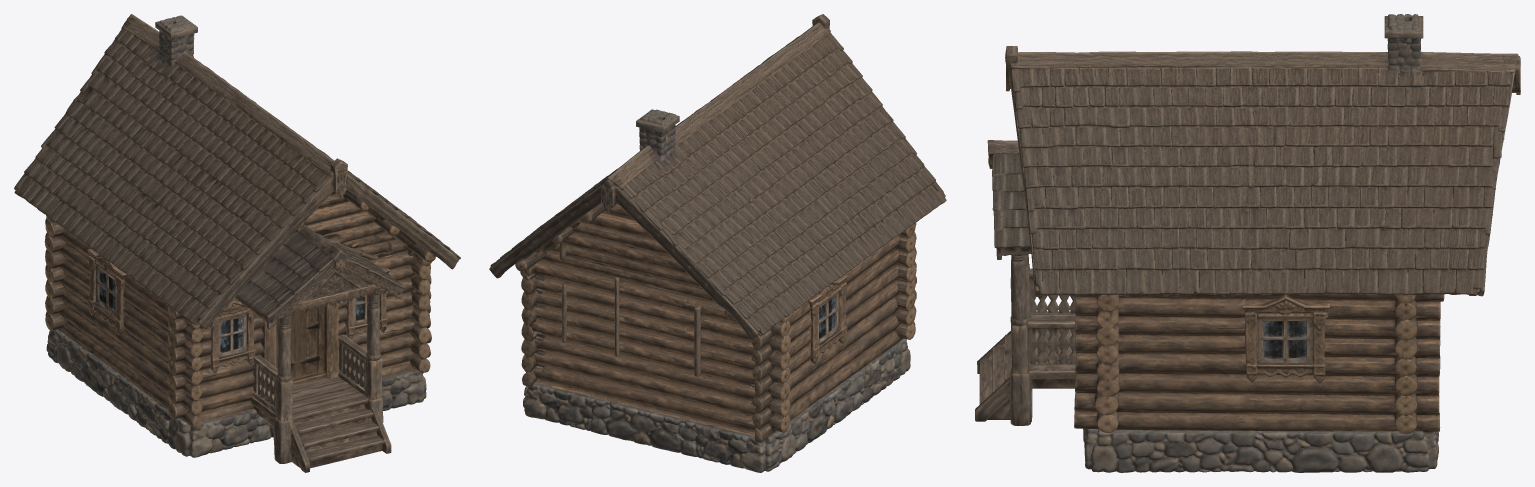
Rendered from chata_z_bali.glb.
3 renders of one model, left to right at view 1: azimuth 30°, elevation 25°; view 2: azimuth 150°, elevation 25°; view 3: azimuth 270°, elevation 25°, orthographic. The views are drawn at different scales.
Visible parts, largest first — view 1: Mesh_0; view 2: Mesh_0; view 3: Mesh_0.
Part boxes in pixels (<box>): Mesh_0: <box>14,14,460,472</box>; Mesh_0: <box>489,14,946,472</box>; Mesh_0: <box>975,14,1520,472</box>.
Bounding box in the file's own units: 1.31 × 1.46 × 1.9.
Materials: 1 (1 with a texture image).
